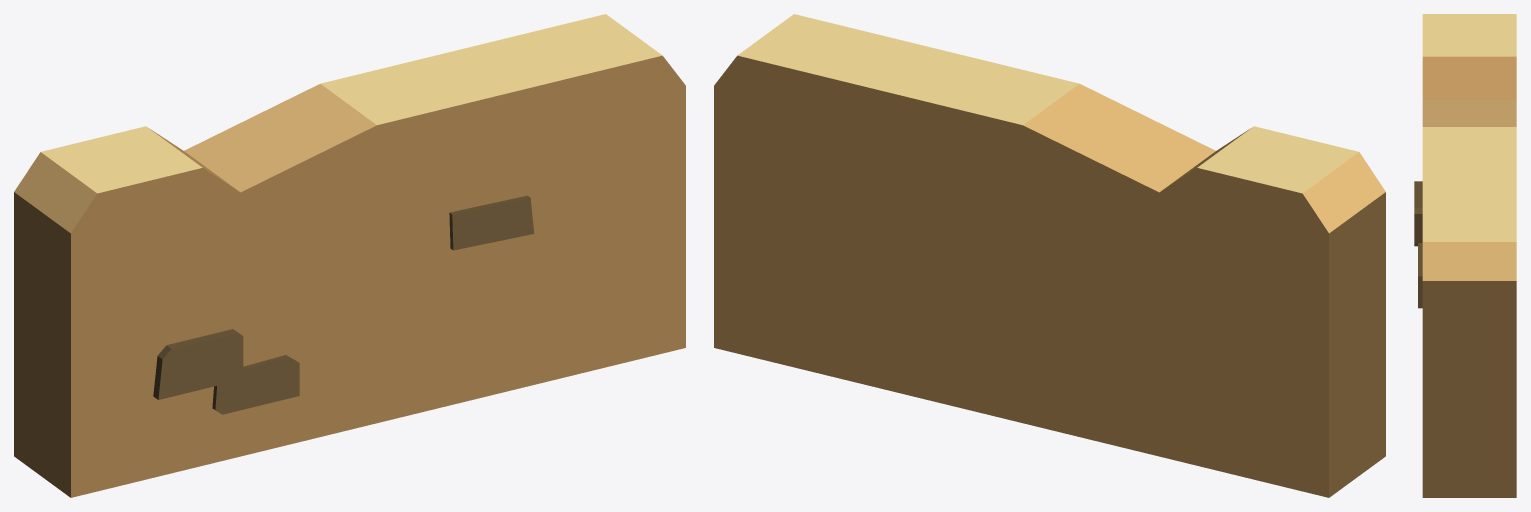
File: TB_D_Bd_Fence_Dirt_Yel_A.FBX
3 renders of one model, left to right at view 1: azimuth 30°, elevation 25°; view 2: azimuth 150°, elevation 25°; view 3: azimuth 270°, elevation 25°, orthographic. The views are drawn at different scales.
Parts seen in each view (by area): view 1: TB_D_Bd_Fence_Dirt_Yel_A; view 2: TB_D_Bd_Fence_Dirt_Yel_A; view 3: TB_D_Bd_Fence_Dirt_Yel_A.
Part boxes in pixels (box(x1,y1,x2,y2)): TB_D_Bd_Fence_Dirt_Yel_A: box(14, 14, 685, 497); TB_D_Bd_Fence_Dirt_Yel_A: box(714, 14, 1385, 497); TB_D_Bd_Fence_Dirt_Yel_A: box(1414, 14, 1516, 497).
Bounding box in the file's own units: 2.5 × 1.16 × 0.4358.
